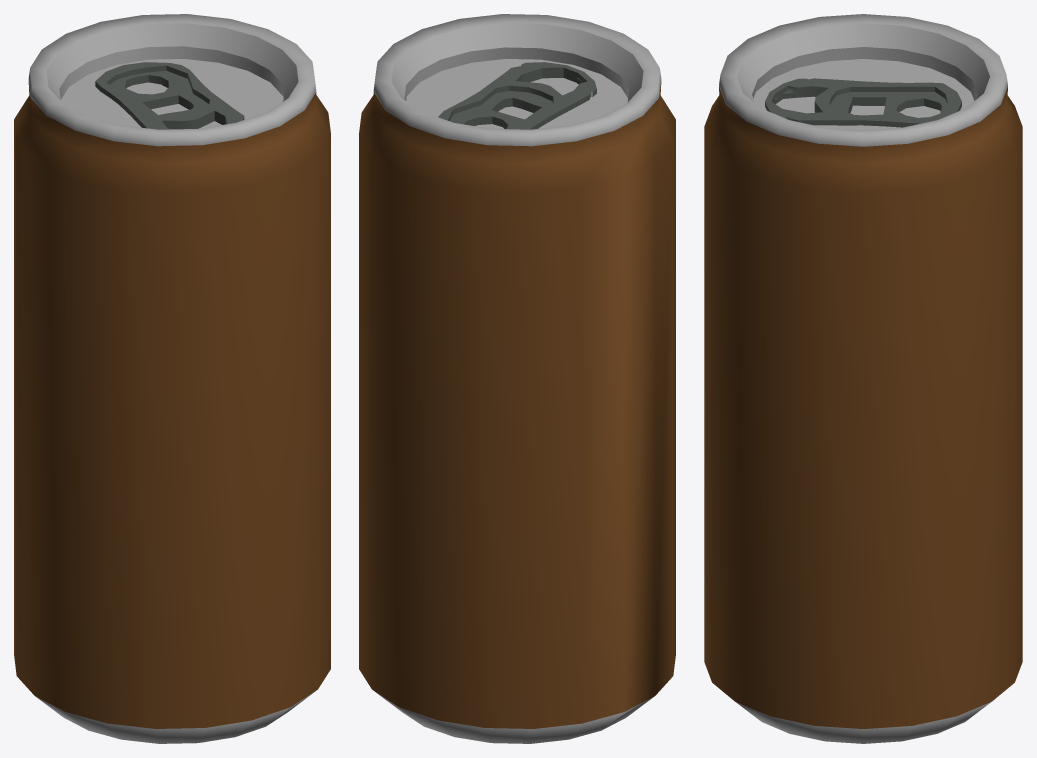
Rendered from coffee.fbx.
3 views of the same model, side by side, from view 1: azimuth 30°, elevation 25°; view 2: azimuth 150°, elevation 25°; view 3: azimuth 270°, elevation 25° (orthographic).
Visible parts, largest first — view 1: coffee; view 2: coffee; view 3: coffee.
Boxes of the visible parts, left/top/right/bottom form: coffee: left=14, top=14, right=330, bottom=743; coffee: left=359, top=14, right=675, bottom=743; coffee: left=704, top=14, right=1022, bottom=743.
Bounding box in the file's own units: 253 × 540 × 253.
